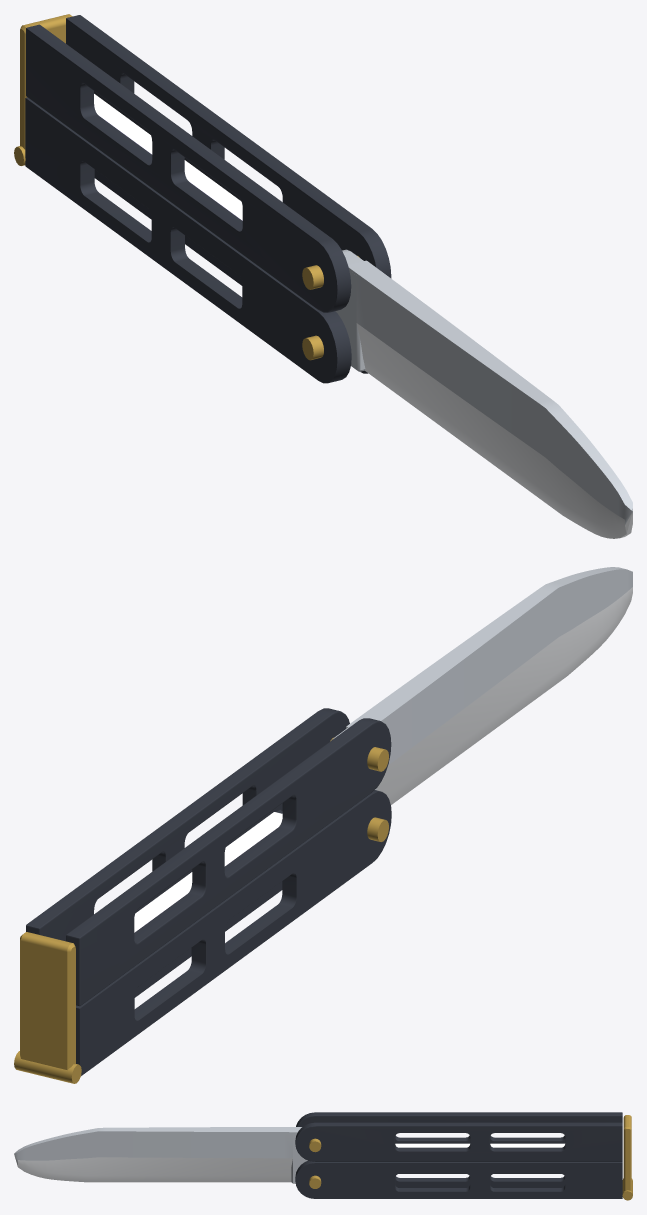
File: w_knife@knife_butterfly.glb
3 views of the same model, one above another, from view 1: azimuth 30°, elevation 25°; view 2: azimuth 150°, elevation 25°; view 3: azimuth 270°, elevation 25° (orthographic). The views are drawn at different scales.
Visible parts, largest first — view 1: safe_wzA__ti__p3b404b, bite_wzA__ti__p3b404b, blade_wzB__steel__pd2d8e0, blade_wzB__edge__pf2f4f7, safe_wzN__lit__n9a8cff, latch_wzN__gold__pc9a54e, blade_wzN__gold__pc9a54e; view 2: safe_wzA__ti__p3b404b, bite_wzA__ti__p3b404b, blade_wzB__steel__pd2d8e0, blade_wzB__edge__pf2f4f7, latch_wzN__gold__pc9a54e, safe_wzN__lit__n9a8cff, blade_wzN__gold__pc9a54e; view 3: safe_wzA__ti__p3b404b, bite_wzA__ti__p3b404b, blade_wzB__steel__pd2d8e0, blade_wzB__edge__pf2f4f7, latch_wzN__gold__pc9a54e, safe_wzN__lit__n9a8cff, blade_wzN__gold__pc9a54e.
Part boxes in pixels (box(x1,y1,x2,y2)): safe_wzA__ti__p3b404b: box(26, 15, 391, 312); bite_wzA__ti__p3b404b: box(25, 97, 367, 383); blade_wzB__steel__pd2d8e0: box(335, 249, 632, 524); blade_wzB__edge__pf2f4f7: box(356, 323, 632, 538); safe_wzN__lit__n9a8cff: box(94, 94, 242, 220); latch_wzN__gold__pc9a54e: box(14, 14, 72, 165); blade_wzN__gold__pc9a54e: box(302, 255, 359, 360); safe_wzA__ti__p3b404b: box(26, 708, 391, 1006); bite_wzA__ti__p3b404b: box(76, 790, 391, 1075); blade_wzB__steel__pd2d8e0: box(331, 567, 632, 790); blade_wzB__edge__pf2f4f7: box(377, 587, 632, 804); latch_wzN__gold__pc9a54e: box(14, 932, 81, 1083); safe_wzN__lit__n9a8cff: box(134, 812, 282, 932); blade_wzN__gold__pc9a54e: box(330, 737, 388, 841); safe_wzA__ti__p3b404b: box(295, 1112, 622, 1161); bite_wzA__ti__p3b404b: box(295, 1160, 622, 1198); blade_wzB__steel__pd2d8e0: box(14, 1127, 307, 1183); blade_wzB__edge__pf2f4f7: box(14, 1155, 292, 1182); latch_wzN__gold__pc9a54e: box(622, 1115, 632, 1200); safe_wzN__lit__n9a8cff: box(395, 1143, 564, 1147); blade_wzN__gold__pc9a54e: box(309, 1138, 321, 1188).
Size of the model in its own units: 0.0183 by 0.0327 by 0.2476.
